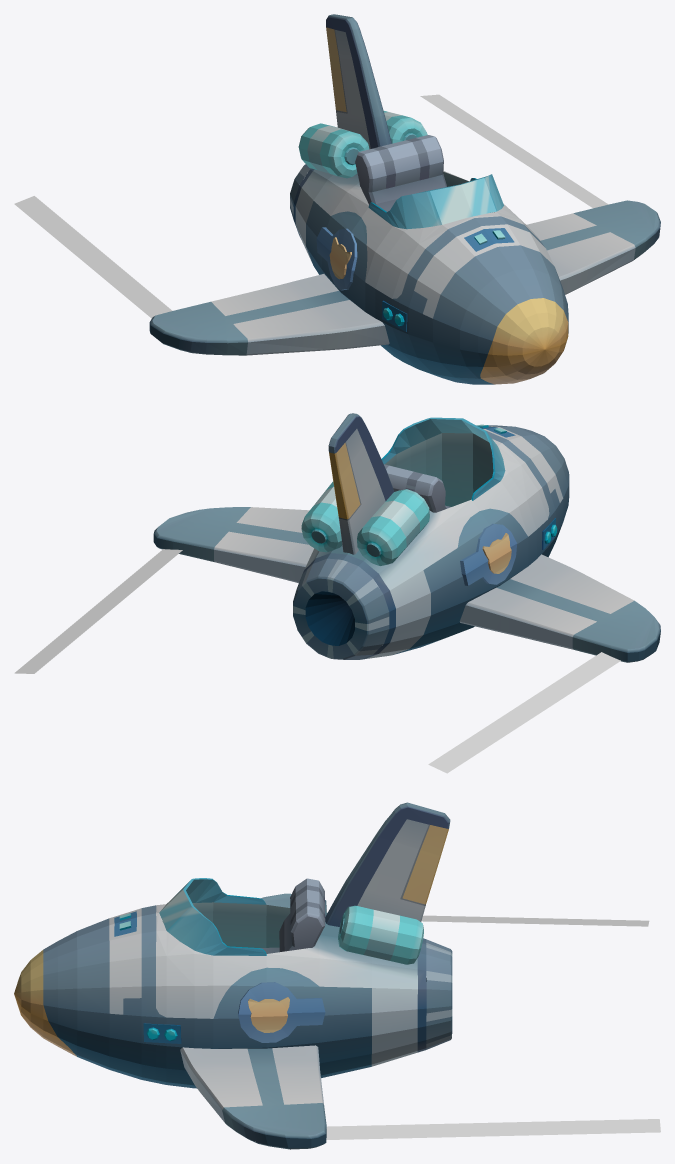
Rendered from AstronautTomAirplane.glb.
3 renders of one model, top to bottom at view 1: azimuth 30°, elevation 25°; view 2: azimuth 150°, elevation 25°; view 3: azimuth 270°, elevation 25°, orthographic.
Visible parts, largest first — view 1: airplane, Trail2, Trail1; view 2: airplane, Trail2, Trail1; view 3: airplane, Trail1, Trail2.
Part boxes in pixels (x1,y1,x2,y2): airplane: (149,14,660,384); Trail2: (14,196,172,318); Trail1: (420,94,608,208); airplane: (153,413,660,662); Trail2: (428,652,620,773); Trail1: (14,549,182,673); airplane: (14,802,452,1149); Trail1: (255,1119,660,1141); Trail2: (421,915,649,926).
Size of the model in its own units: 1.05 by 0.5564 by 1.18.
